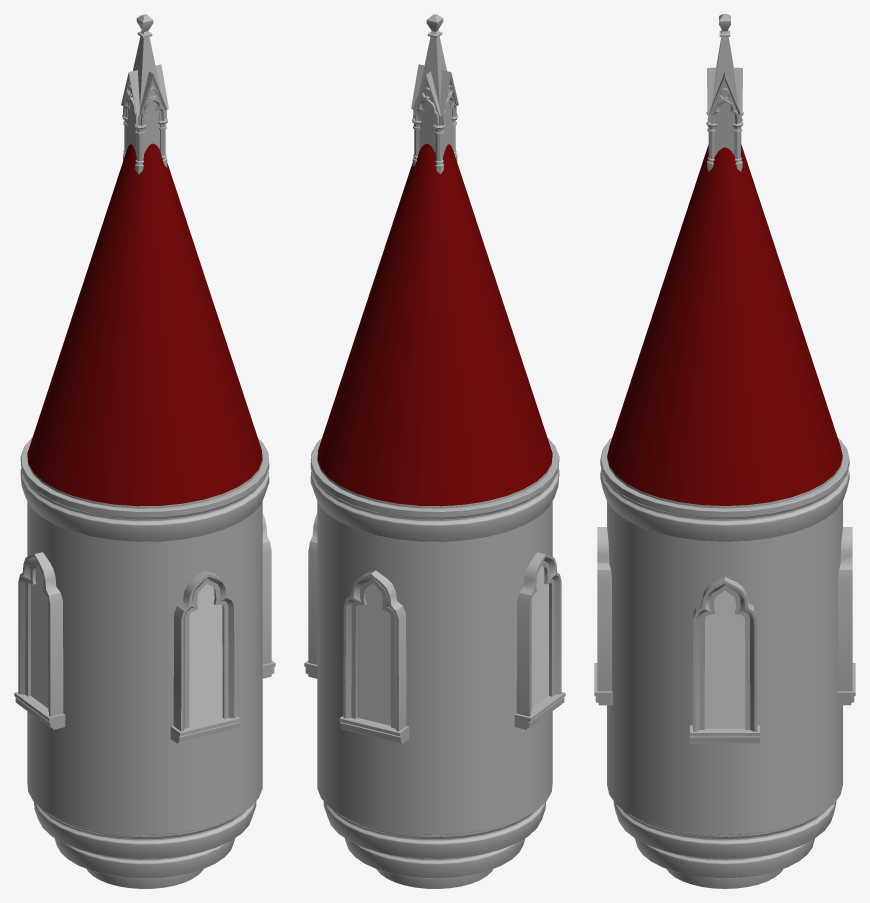
The model's file is turret_004.glb.
3 renders of one model, left to right at view 1: azimuth 30°, elevation 25°; view 2: azimuth 150°, elevation 25°; view 3: azimuth 270°, elevation 25°, orthographic.
Visible parts, largest first — view 1: turret_004; view 2: turret_004; view 3: turret_004.
Boxes of the visible parts, box(x1,y1,x2,y2) form: turret_004: box(14, 14, 275, 888); turret_004: box(304, 14, 565, 888); turret_004: box(594, 14, 855, 888).
Bounding box in the file's own units: 0.5943 × 2.13 × 0.5943.
